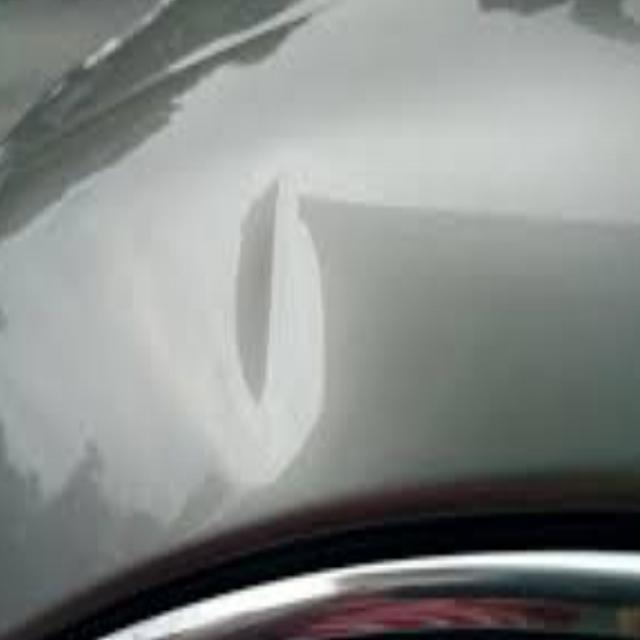dents: (230, 168, 310, 447)
